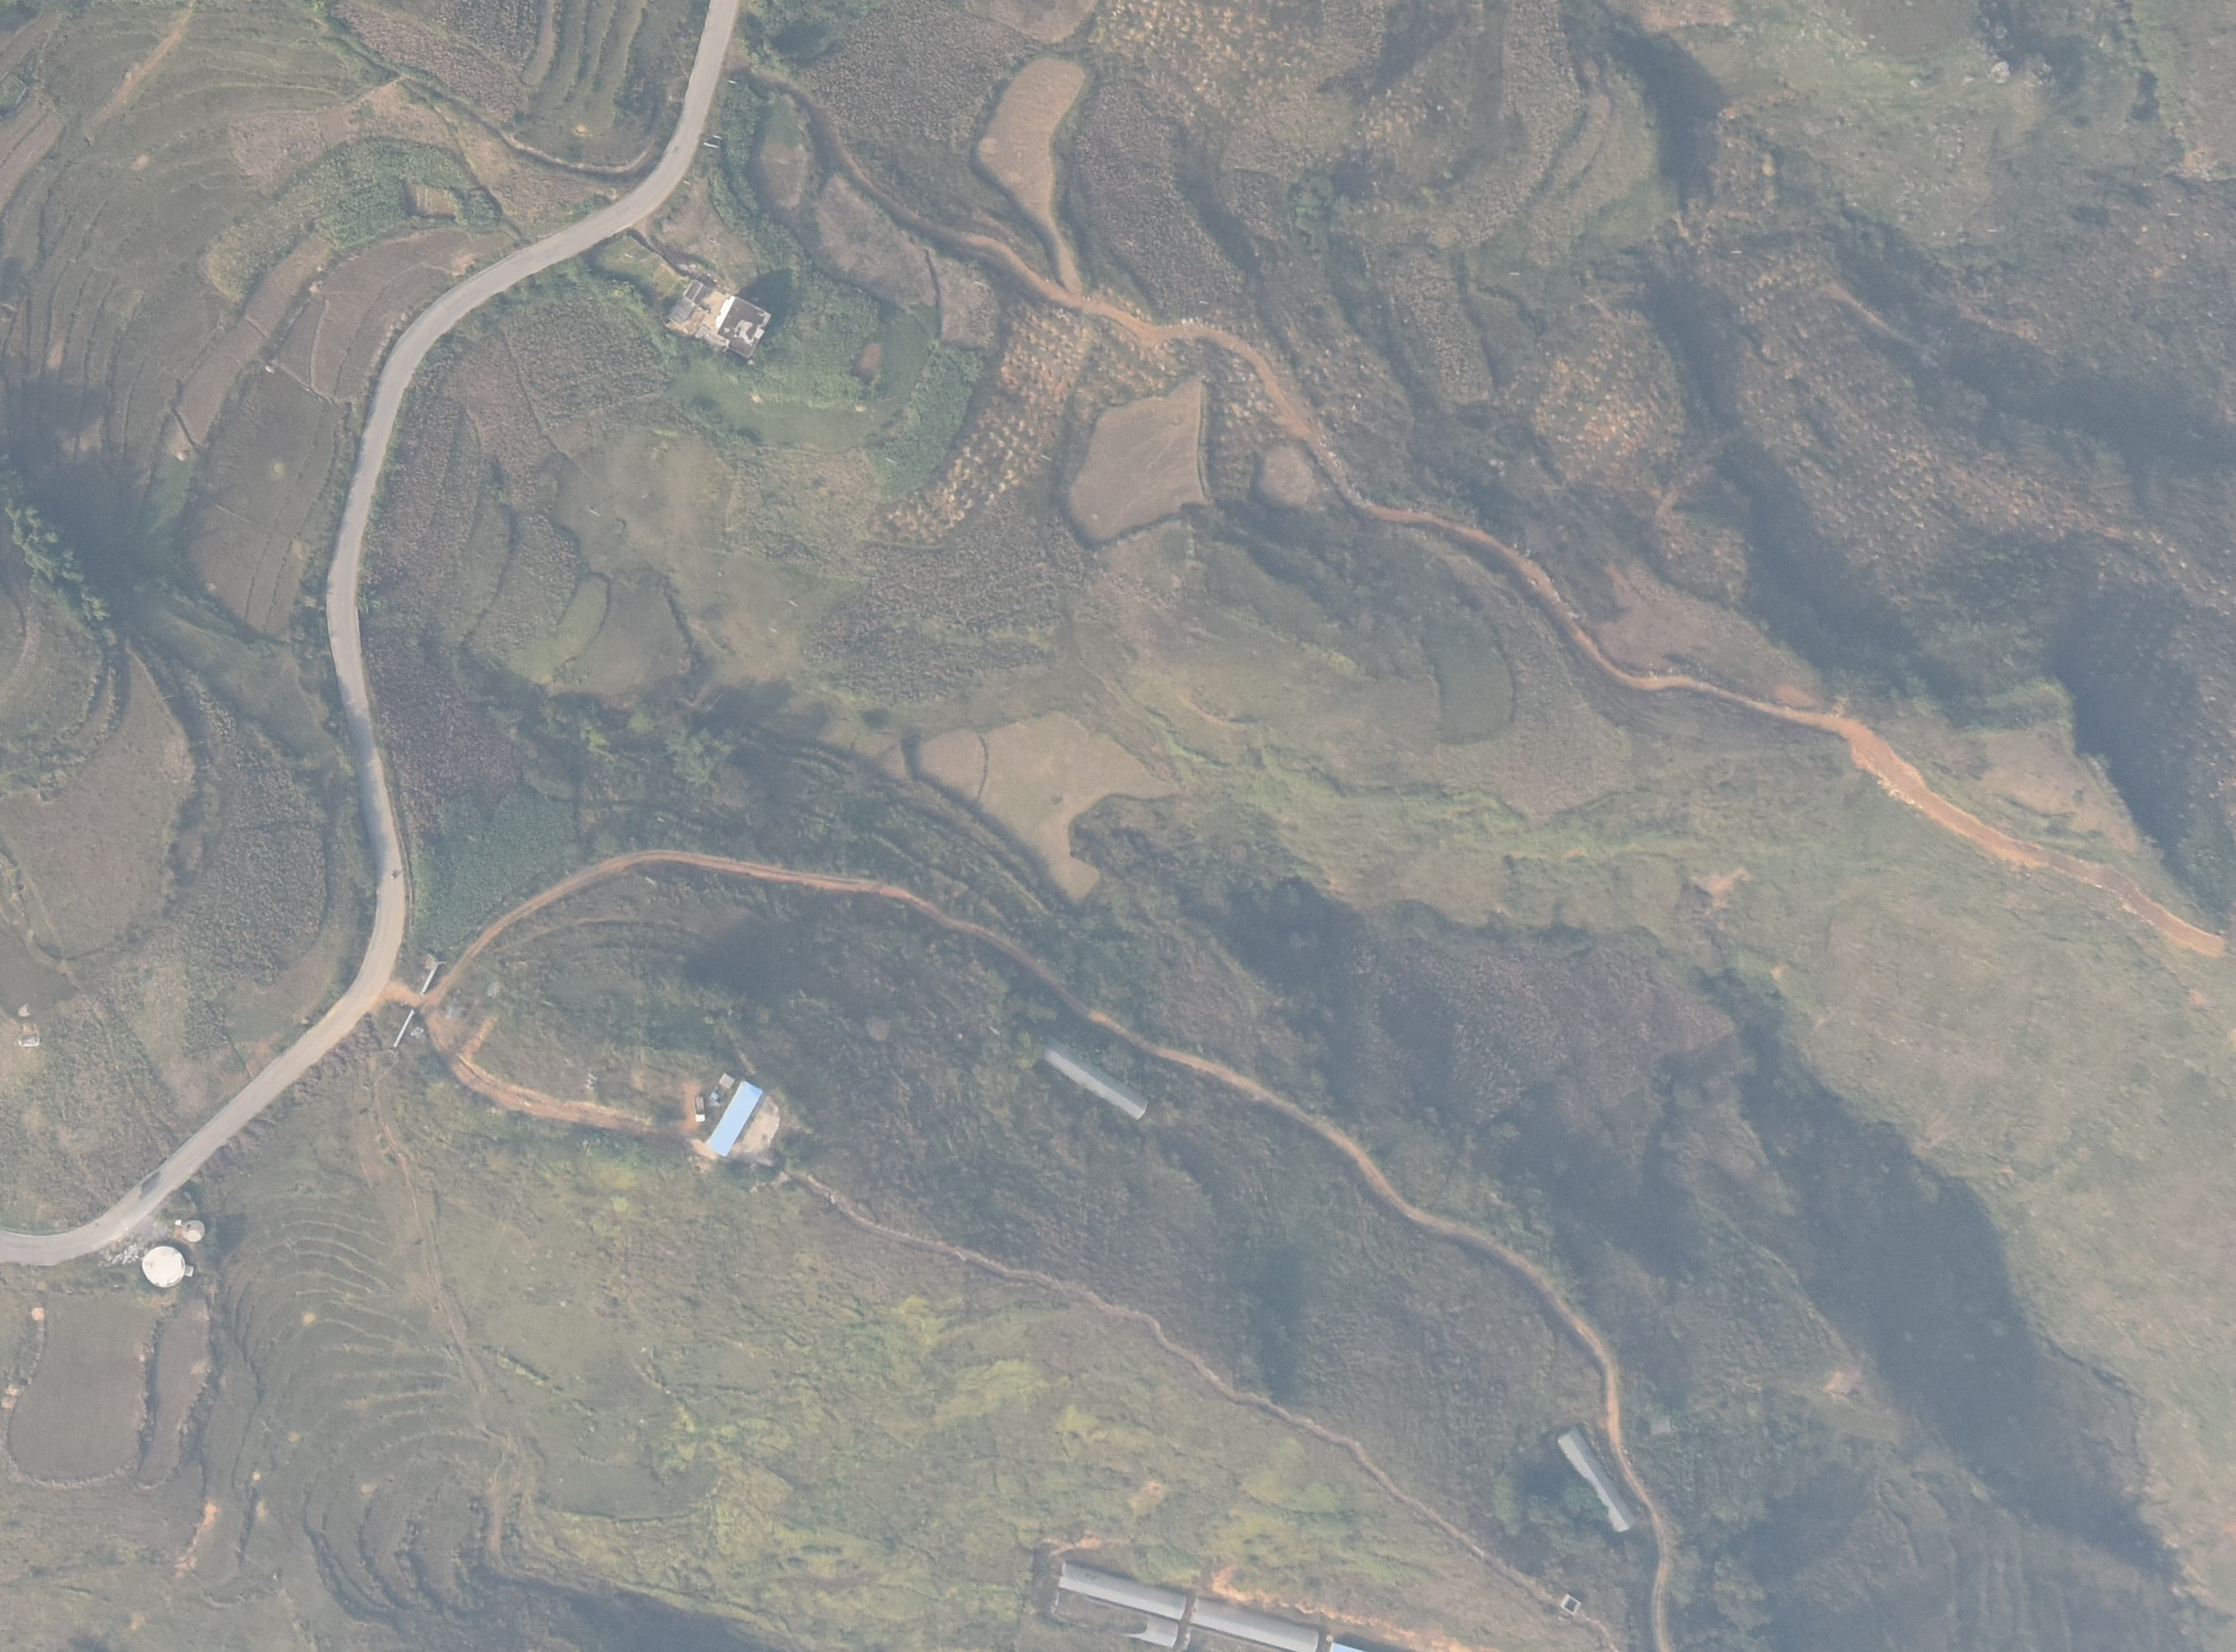building: (1031, 1033, 1150, 1119), (1549, 1424, 1637, 1539), (1051, 1554, 1193, 1623), (1187, 1587, 1326, 1652), (1042, 1587, 1191, 1648)
prefabricated-house: (704, 1074, 780, 1163)
vehicle: (707, 292, 786, 360), (692, 1087, 709, 1120)
well: (140, 1245, 194, 1292), (178, 1216, 210, 1242)
